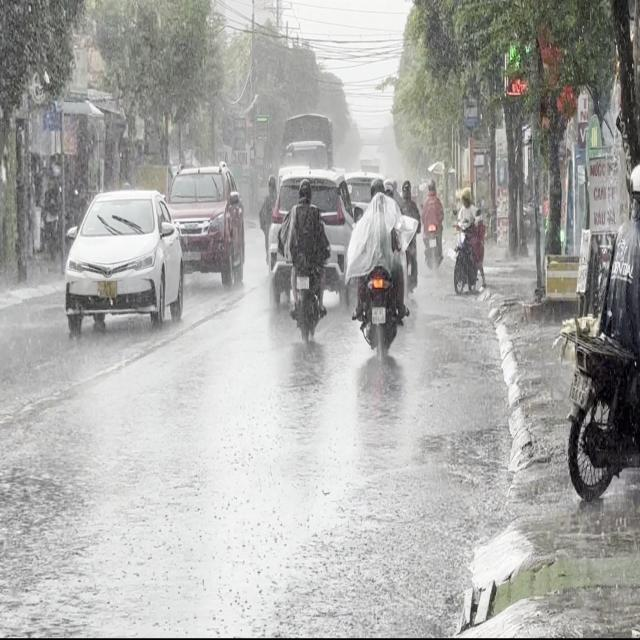helmet: (628, 161, 640, 217), (369, 175, 383, 199), (298, 178, 311, 202), (382, 174, 394, 196)
licenseplate: (560, 153, 640, 528), (346, 171, 408, 358), (287, 176, 328, 338)
nohelmet: (371, 306, 385, 322), (297, 276, 308, 288)
